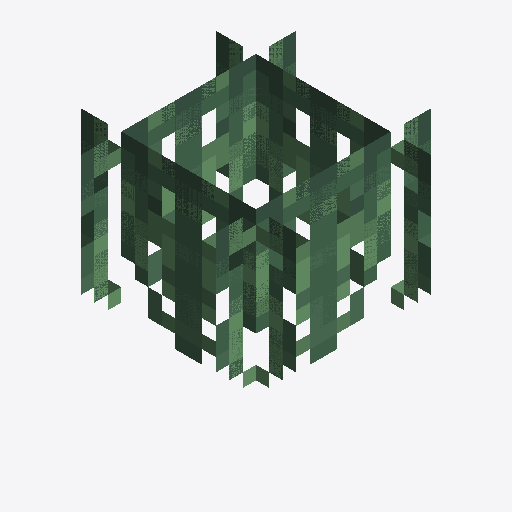
Isometric view (azimuth 45°, elevation 35.3°) of a Minecraft model made of 4 cuboids, textured from the same repository.
Parts seen in each view (by area): element 2, element 4, element 1, element 3.
Boxes of the visible parts, x1=… form: element 2: x1=81, y1=109, x2=295, y2=387; element 4: x1=216, y1=109, x2=430, y2=387; element 1: x1=216, y1=31, x2=430, y2=309; element 3: x1=81, y1=31, x2=295, y2=309.
Bounding box in the file's own units: 16 × 16 × 16.